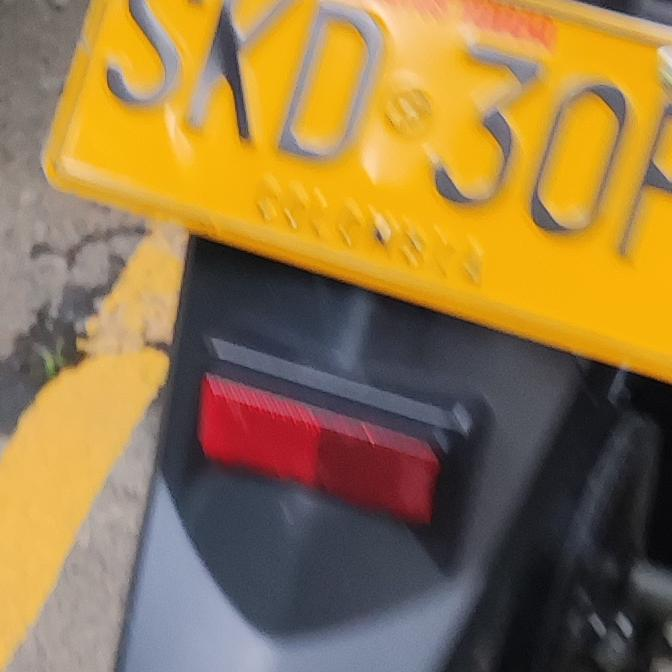plates: (22, 0, 672, 385)
